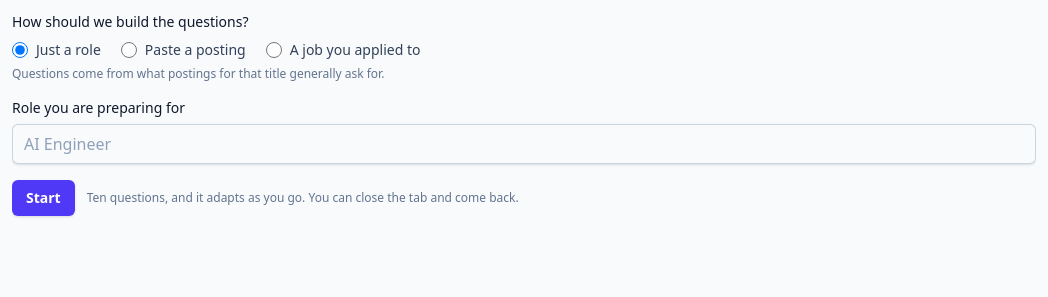
StartInterview › picking a job you applied to › will not start without a job chosen
Click the radio button labelled "A job you applied to" at (274,50), box top-left (266, 42), bottom-right (282, 58)
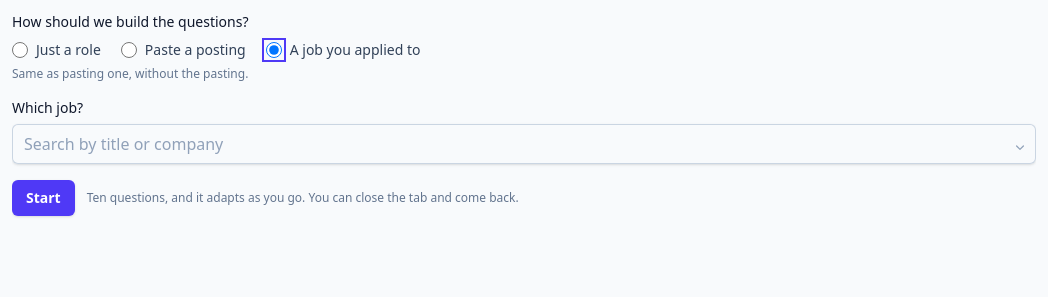
Expected: the dropdown labelled "Which job?" is shown, top-left (12, 124), bottom-right (1036, 164)
Click the button "Start" at (43,198), box top-left (12, 180), bottom-right (75, 216)
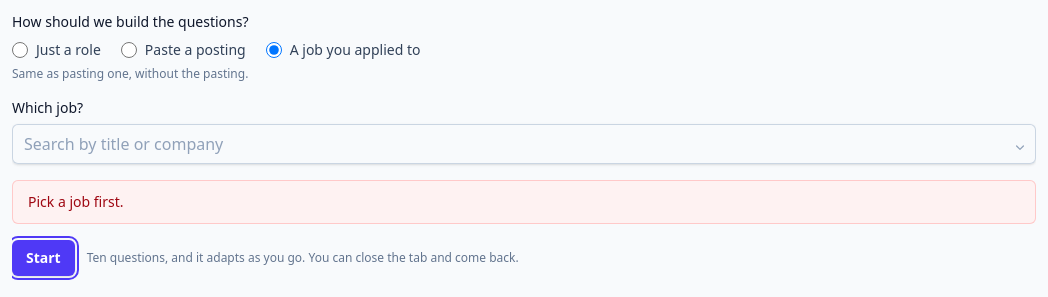
Expected: the message "Pick a job first." is shown, top-left (12, 180), bottom-right (1036, 224)
